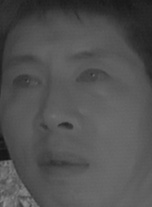eye: (73, 64, 113, 88), (8, 70, 43, 93)
mouth: (32, 144, 91, 183)
